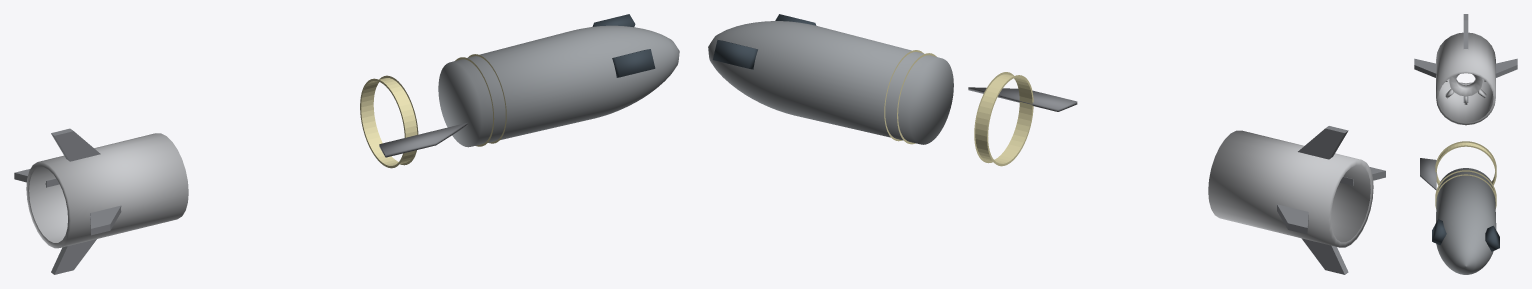
Rendered from UK_TORP_StingRay_LOD0.fbx.
3 views of the same model, side by side, from view 1: azimuth 30°, elevation 25°; view 2: azimuth 150°, elevation 25°; view 3: azimuth 270°, elevation 25° (orthographic). The views are drawn at different scales.
Parts seen in each view (by area): view 1: WPN_UK_TORP_StingRay_LOD0_Body, WPN_UK_TORP_StingRay_LOD0_Propulsor, WPN_UK_TORP_StingRay_LOD0_Marking, WPN_UK_TORP_StingRay_LOD0_Fins, WPN_UK_TORP_StingRay_LOD0_Seeker, WPN_UK_TORP_StingRay_LOD0_Detail; view 2: WPN_UK_TORP_StingRay_LOD0_Body, WPN_UK_TORP_StingRay_LOD0_Propulsor, WPN_UK_TORP_StingRay_LOD0_Marking, WPN_UK_TORP_StingRay_LOD0_Fins, WPN_UK_TORP_StingRay_LOD0_Seeker, WPN_UK_TORP_StingRay_LOD0_Detail; view 3: WPN_UK_TORP_StingRay_LOD0_Body, WPN_UK_TORP_StingRay_LOD0_Propulsor, WPN_UK_TORP_StingRay_LOD0_Marking, WPN_UK_TORP_StingRay_LOD0_Fins, WPN_UK_TORP_StingRay_LOD0_Seeker, WPN_UK_TORP_StingRay_LOD0_Detail.
Boxes of the visible parts, x1,y1,x2,y2 form: WPN_UK_TORP_StingRay_LOD0_Body: (438, 25, 679, 147); WPN_UK_TORP_StingRay_LOD0_Propulsor: (26, 133, 188, 248); WPN_UK_TORP_StingRay_LOD0_Marking: (360, 54, 506, 168); WPN_UK_TORP_StingRay_LOD0_Fins: (14, 128, 121, 274); WPN_UK_TORP_StingRay_LOD0_Seeker: (592, 14, 655, 77); WPN_UK_TORP_StingRay_LOD0_Detail: (379, 122, 467, 157); WPN_UK_TORP_StingRay_LOD0_Body: (708, 21, 953, 144); WPN_UK_TORP_StingRay_LOD0_Propulsor: (1208, 130, 1373, 247); WPN_UK_TORP_StingRay_LOD0_Marking: (884, 50, 1033, 166); WPN_UK_TORP_StingRay_LOD0_Fins: (1277, 126, 1385, 274); WPN_UK_TORP_StingRay_LOD0_Seeker: (713, 14, 816, 69); WPN_UK_TORP_StingRay_LOD0_Detail: (968, 87, 1077, 111); WPN_UK_TORP_StingRay_LOD0_Body: (1435, 168, 1496, 274); WPN_UK_TORP_StingRay_LOD0_Propulsor: (1436, 32, 1495, 125); WPN_UK_TORP_StingRay_LOD0_Marking: (1435, 141, 1496, 208); WPN_UK_TORP_StingRay_LOD0_Fins: (1414, 14, 1517, 102); WPN_UK_TORP_StingRay_LOD0_Seeker: (1432, 219, 1499, 251); WPN_UK_TORP_StingRay_LOD0_Detail: (1420, 158, 1436, 190).
Bounding box in the file's own units: 2.6 × 0.5479 × 0.5479.
